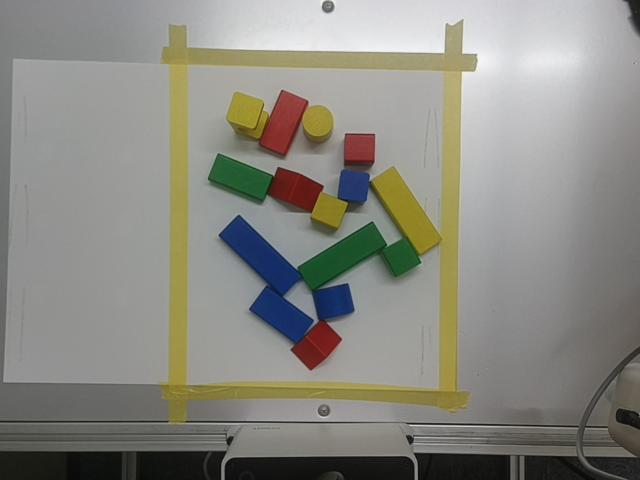blue_cube: (338, 170, 369, 202)
blue_longrect: (219, 216, 300, 294)
blue_rect: (252, 284, 314, 340)
cylinder: (302, 105, 333, 143)
green_cube: (380, 237, 420, 276)
green_longrect: (298, 222, 386, 291)
green_rect: (208, 154, 272, 203)
half_cylinder: (312, 284, 353, 320)
red_cube: (345, 133, 375, 165)
red_rect: (259, 90, 308, 156)
triangle: (291, 321, 341, 369), (269, 168, 322, 212)
yellow_cube: (311, 192, 347, 229)
yellow_longrect: (371, 167, 441, 254)
